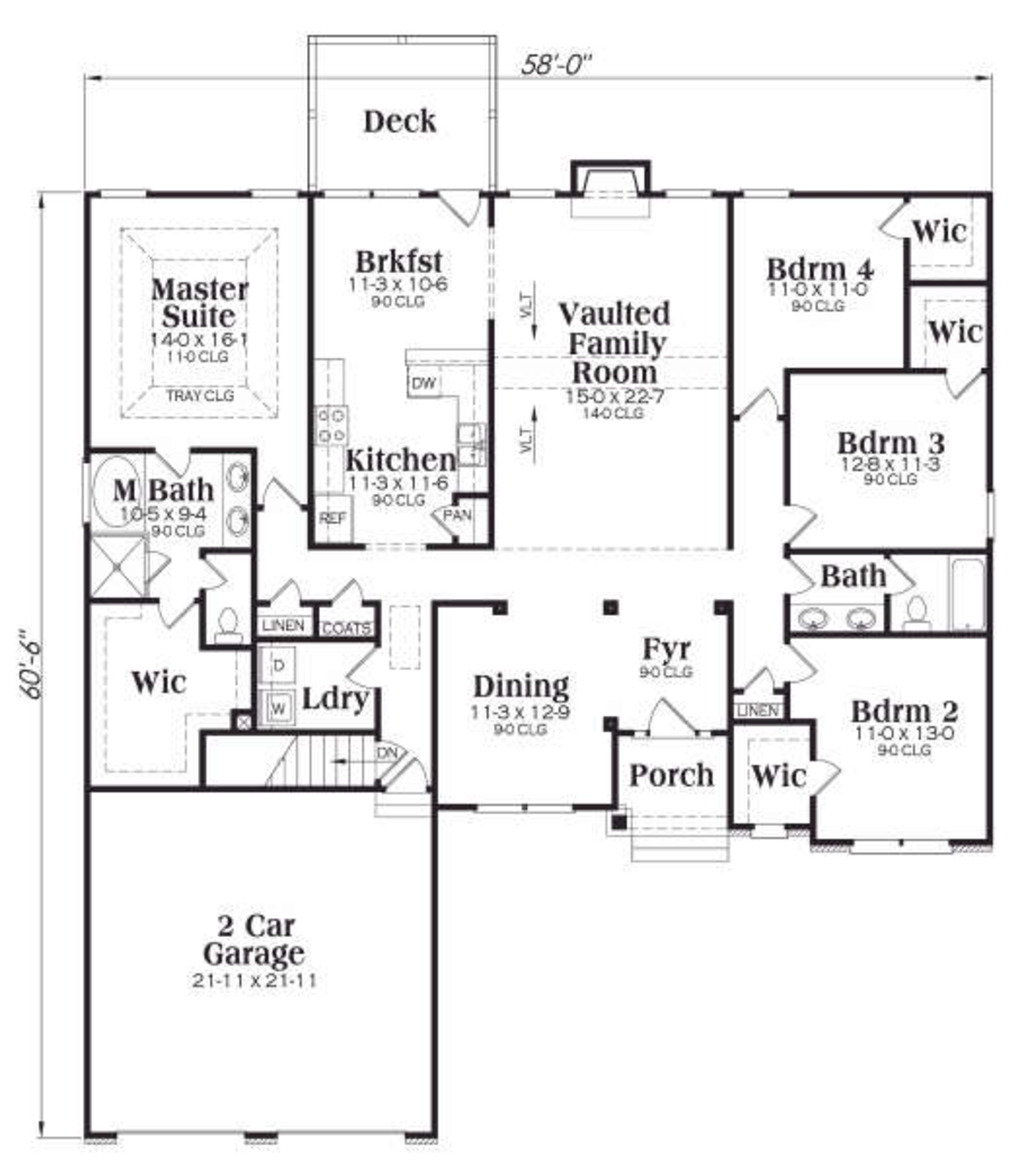door: (642, 690, 711, 743), (431, 179, 486, 234), (340, 637, 395, 688), (146, 434, 195, 485), (866, 552, 920, 597), (780, 637, 820, 694), (257, 474, 311, 516), (733, 385, 782, 430), (382, 748, 429, 794), (777, 557, 820, 603), (724, 663, 782, 697), (780, 501, 824, 545), (946, 359, 982, 408), (878, 196, 918, 239), (802, 759, 840, 799), (153, 597, 193, 632), (324, 576, 366, 605), (193, 557, 224, 594), (144, 548, 169, 581), (378, 741, 400, 777), (269, 583, 300, 607)
large_sink: (204, 597, 247, 648), (898, 585, 931, 639)
small_sink: (775, 594, 889, 637), (213, 448, 255, 550)
stairs: (227, 728, 378, 792)
tub: (91, 452, 149, 537), (942, 554, 989, 637)
twin_sink: (457, 421, 495, 476)
window: (473, 790, 580, 825), (847, 837, 953, 856), (93, 183, 155, 201)
